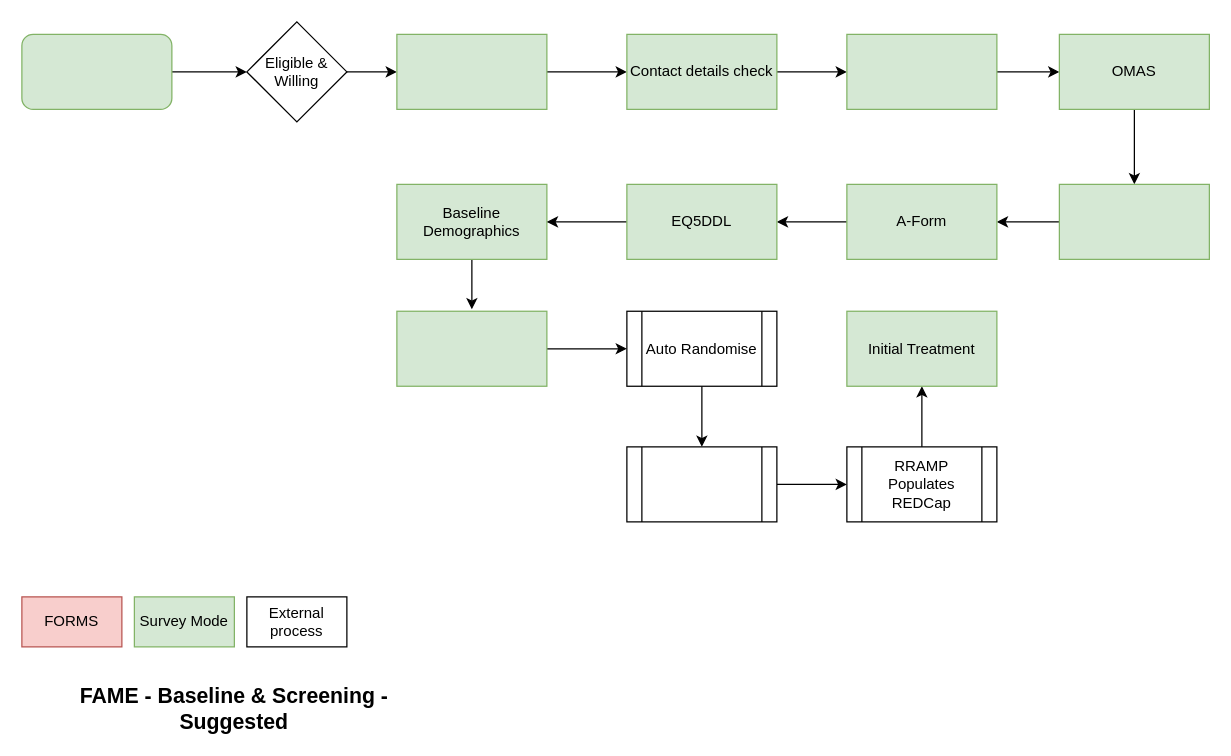
This 1231x756 diagram has some shape labels left out. The centre of each missing label's shape, as x and y in pixels:
Consent: the point at 921,71
Patient Contact Details: the point at 471,71
Randomisation Form: the point at 471,348
RRAMP: the point at 701,484
Screening: the point at 96,71
WPAI-SHP: the point at 1133,221
